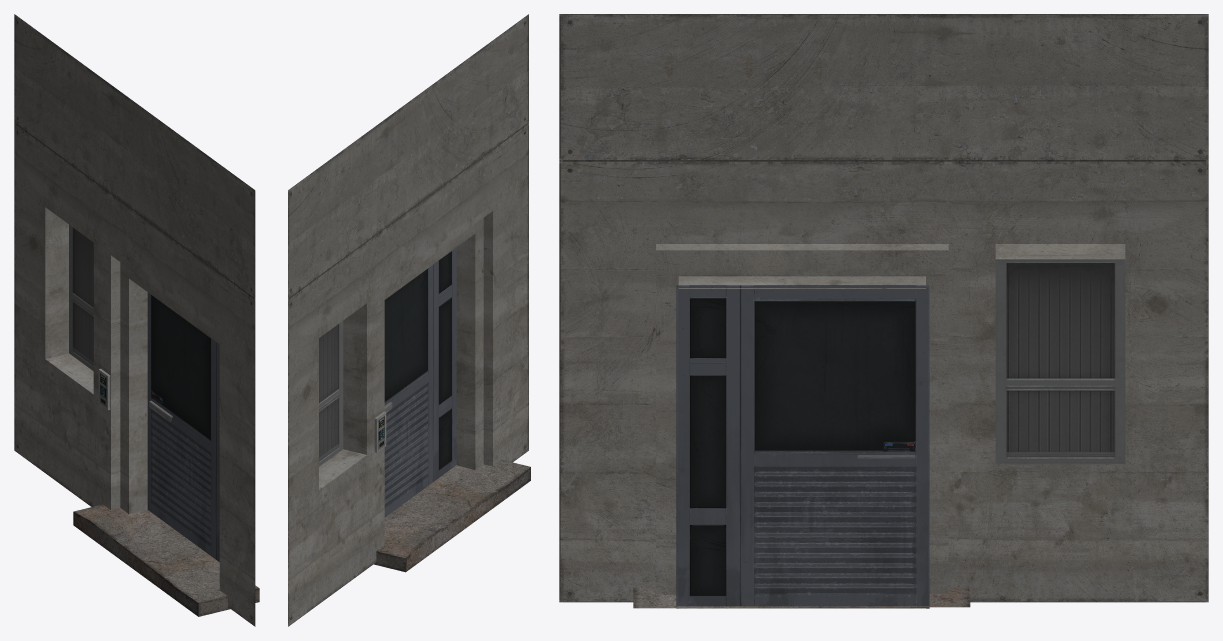
The model's file is CP_Wall_Entry_4m_07.fbx.
3 views of the same model, side by side, from view 1: azimuth 30°, elevation 25°; view 2: azimuth 150°, elevation 25°; view 3: azimuth 270°, elevation 25° (orthographic). The views are drawn at different scales.
Visible parts, largest first — view 1: CP_Wall_Entry_4m_07; view 2: CP_Wall_Entry_4m_07; view 3: CP_Wall_Entry_4m_07.
Boxes of the visible parts, left/top/right/bottom form: CP_Wall_Entry_4m_07: left=14, top=14, right=259, bottom=626; CP_Wall_Entry_4m_07: left=288, top=14, right=530, bottom=626; CP_Wall_Entry_4m_07: left=559, top=14, right=1208, bottom=608.
Size of the model in its own units: 58.44 by 403 by 400.
